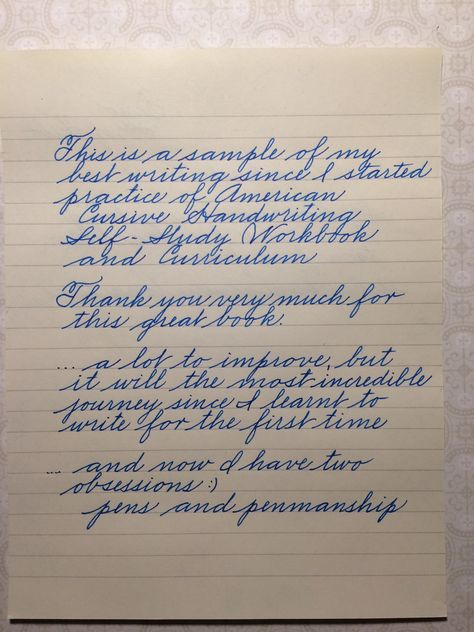page: (2, 52, 444, 616)
